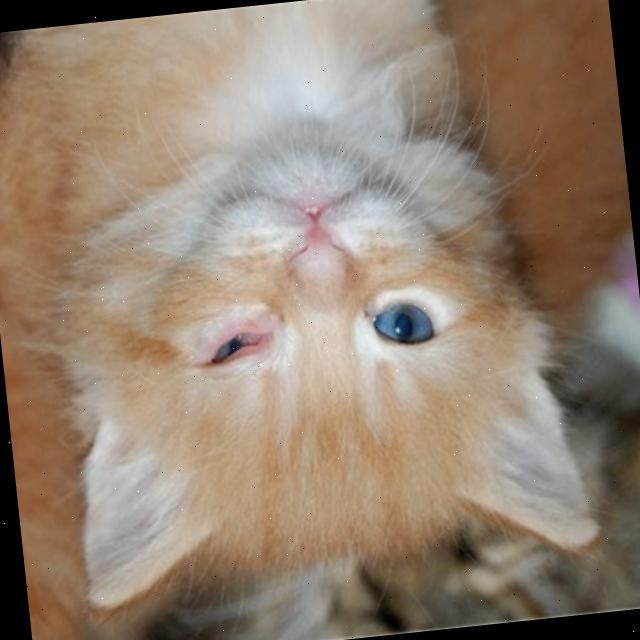cat-eye: (172, 289, 302, 403)
cat-eye-normal: (344, 277, 468, 373)
